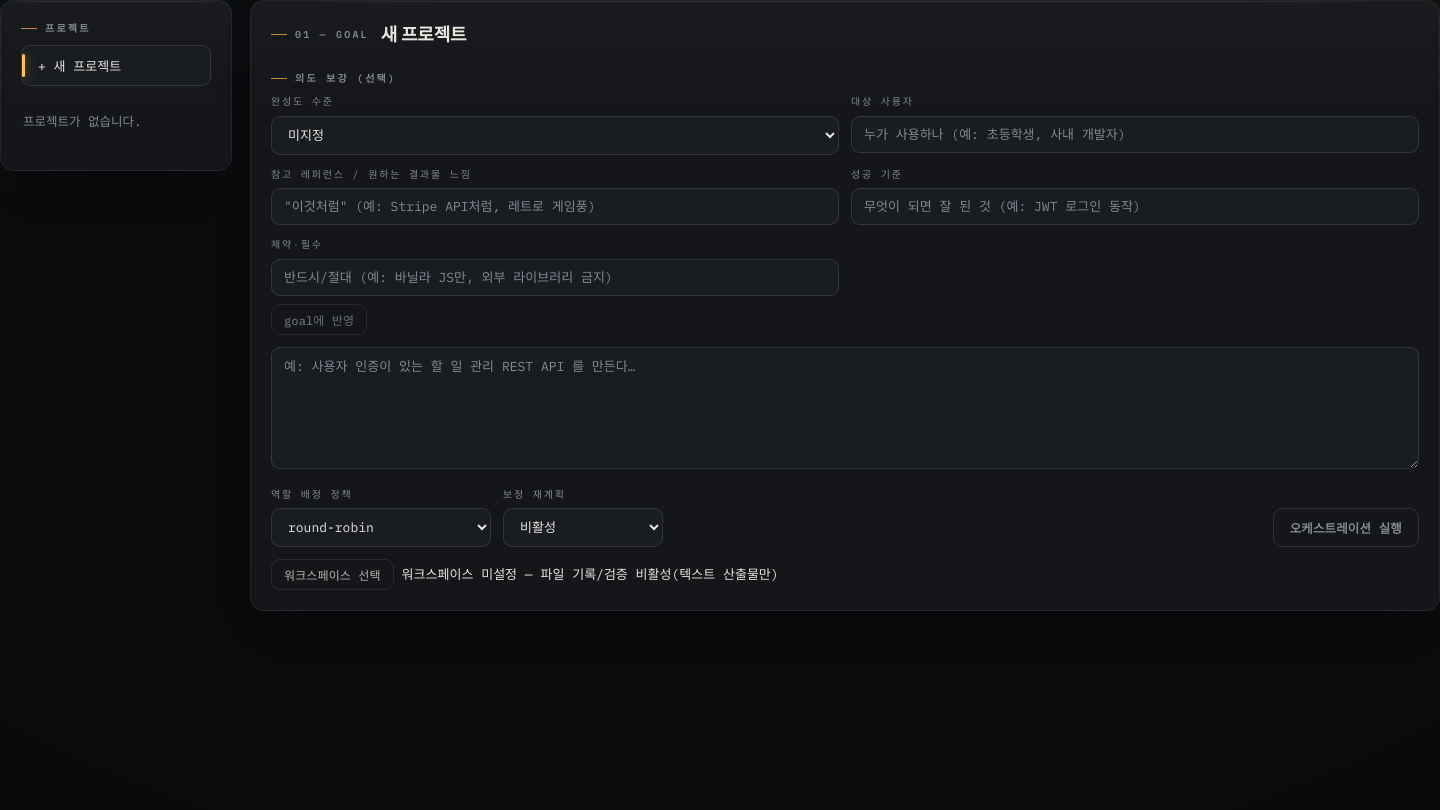
Scenario: ProjectPanel › refreshes the project list when a run is rejected
The image size is (1440, 810).
Expected: the text "워크스페이스 미설정 — 파일 기록/검증 비활성(텍스트 산출물만)" is shown, [402,565,779,585]
In the text box with placeholder "예: 사용자 인증이 있는 할 일 관리 REST API 를 만든다…": [845, 408] box [271,347,1419,469], type "목표"
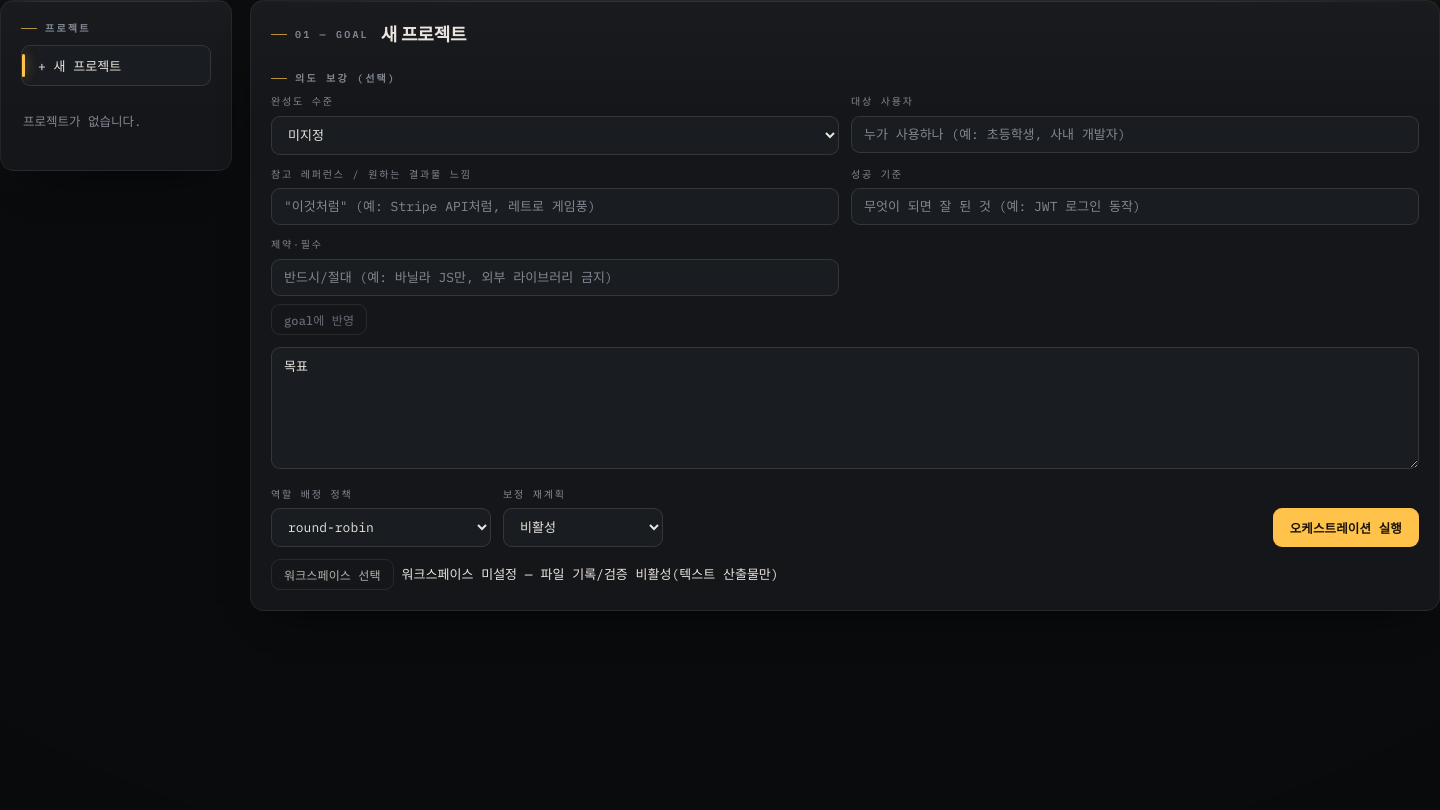
Click the button "오케스트레이션 실행": [1346, 528] box [1273,508,1419,547]
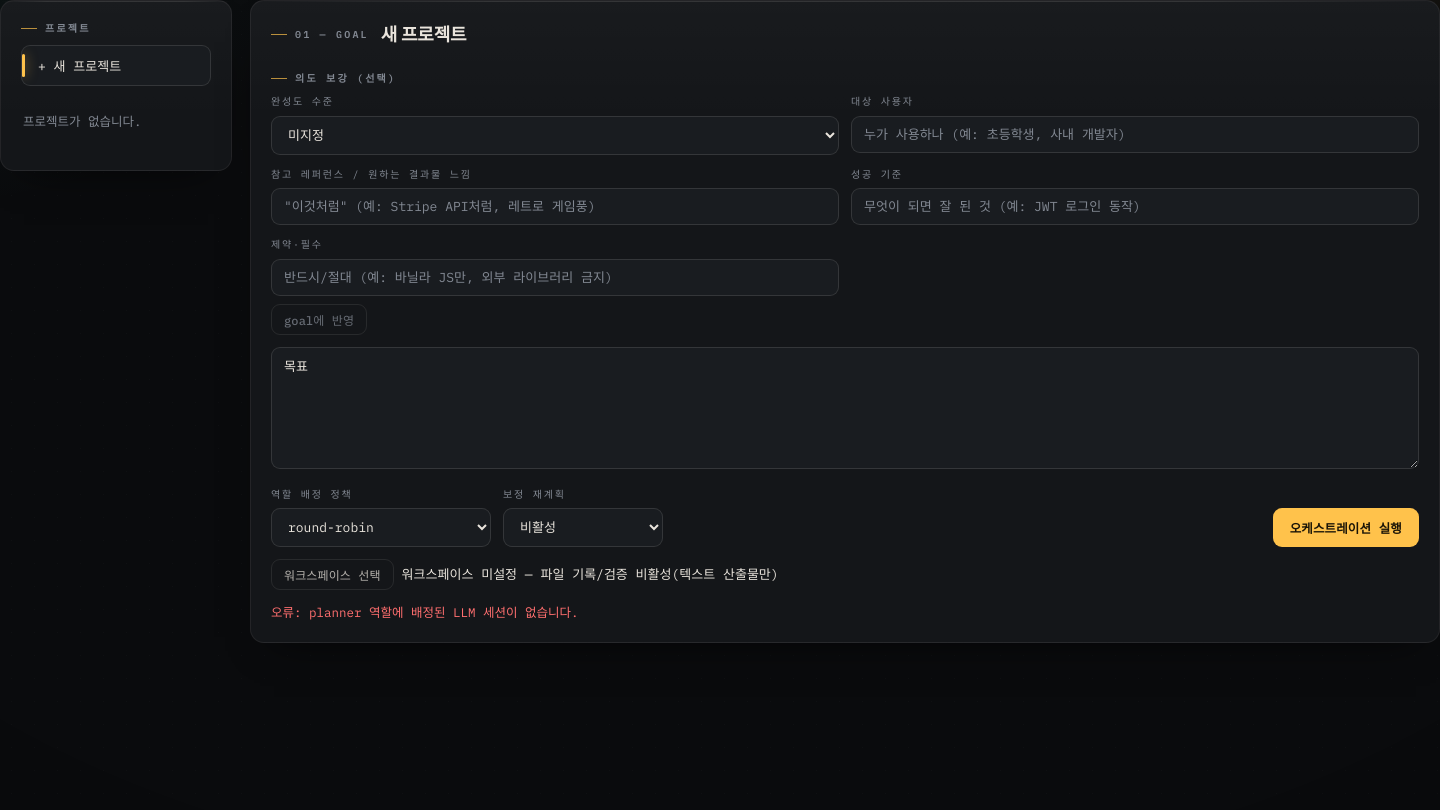
Expected: the text "오류: planner 역할에 배정된 LLM 세션이 없습니다." is shown, [271,604,578,620]
